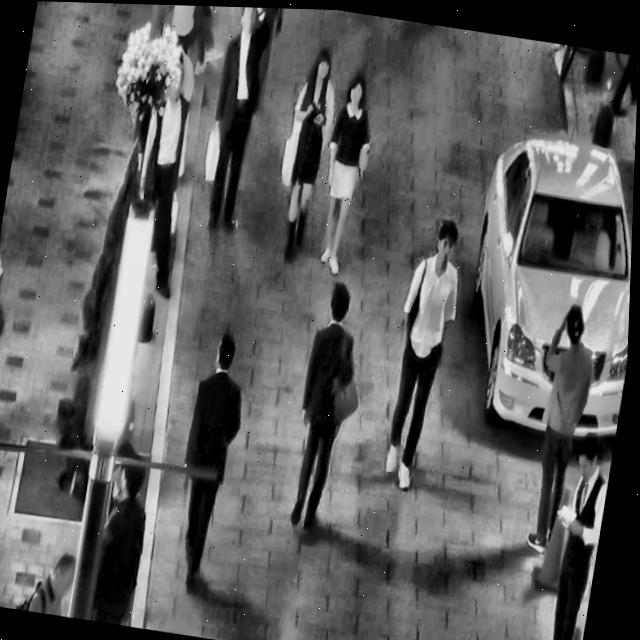light_vehicle: (444, 104, 637, 450)
